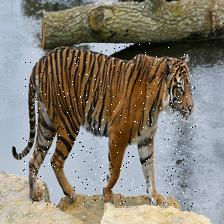tiger: (22, 44, 196, 208)
